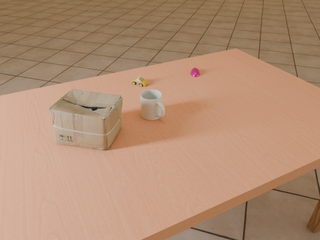box: (49, 89, 123, 150)
cup: (140, 90, 165, 120)
mouse: (191, 68, 200, 77)
toy_car: (132, 76, 148, 86)
